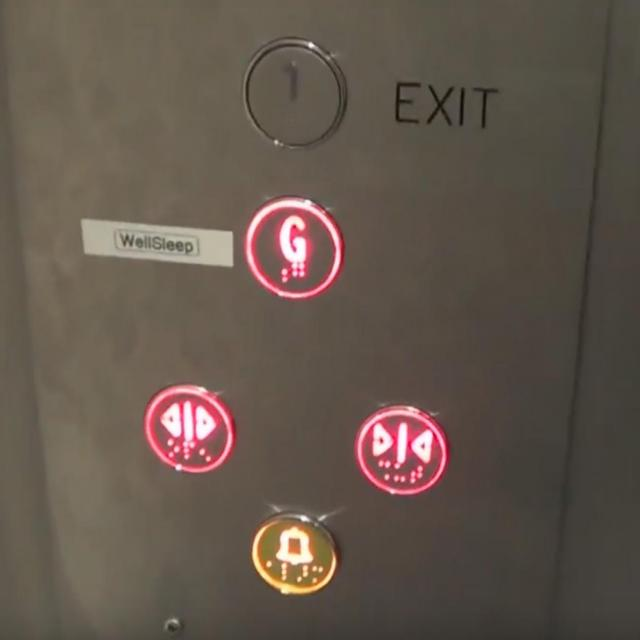1: (240, 37, 348, 150)
G: (243, 193, 346, 300)
alarm: (249, 510, 340, 596)
close: (354, 403, 449, 496)
open: (143, 382, 234, 474)
